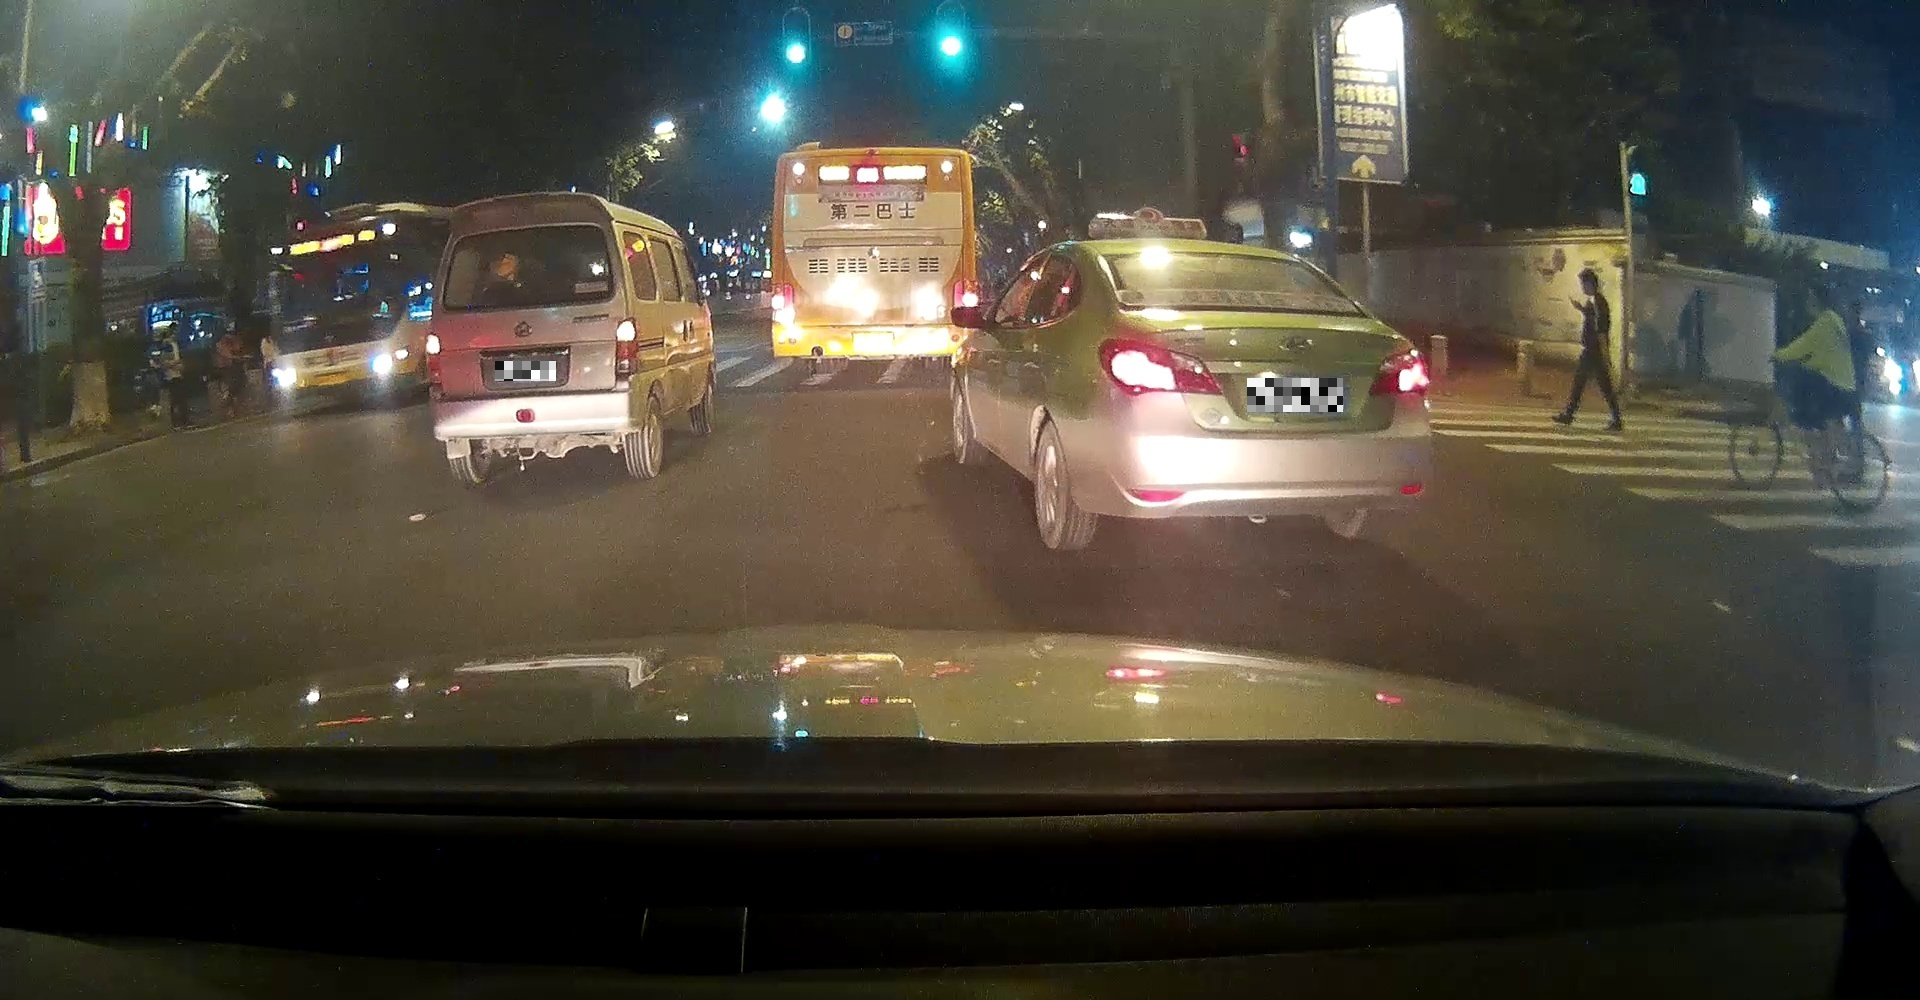L_light: (1098, 338, 1223, 395), (771, 286, 792, 324), (424, 335, 441, 385)
R_light: (1369, 346, 1429, 397), (616, 319, 636, 372), (952, 280, 977, 306)
T_light: (1203, 254, 1241, 263), (504, 230, 536, 237), (856, 155, 881, 160)
night-no: (1095, 242, 1431, 551), (424, 192, 637, 489), (771, 147, 978, 371)
plate_1: (495, 360, 556, 381)
plate_2: (1247, 378, 1343, 412)
